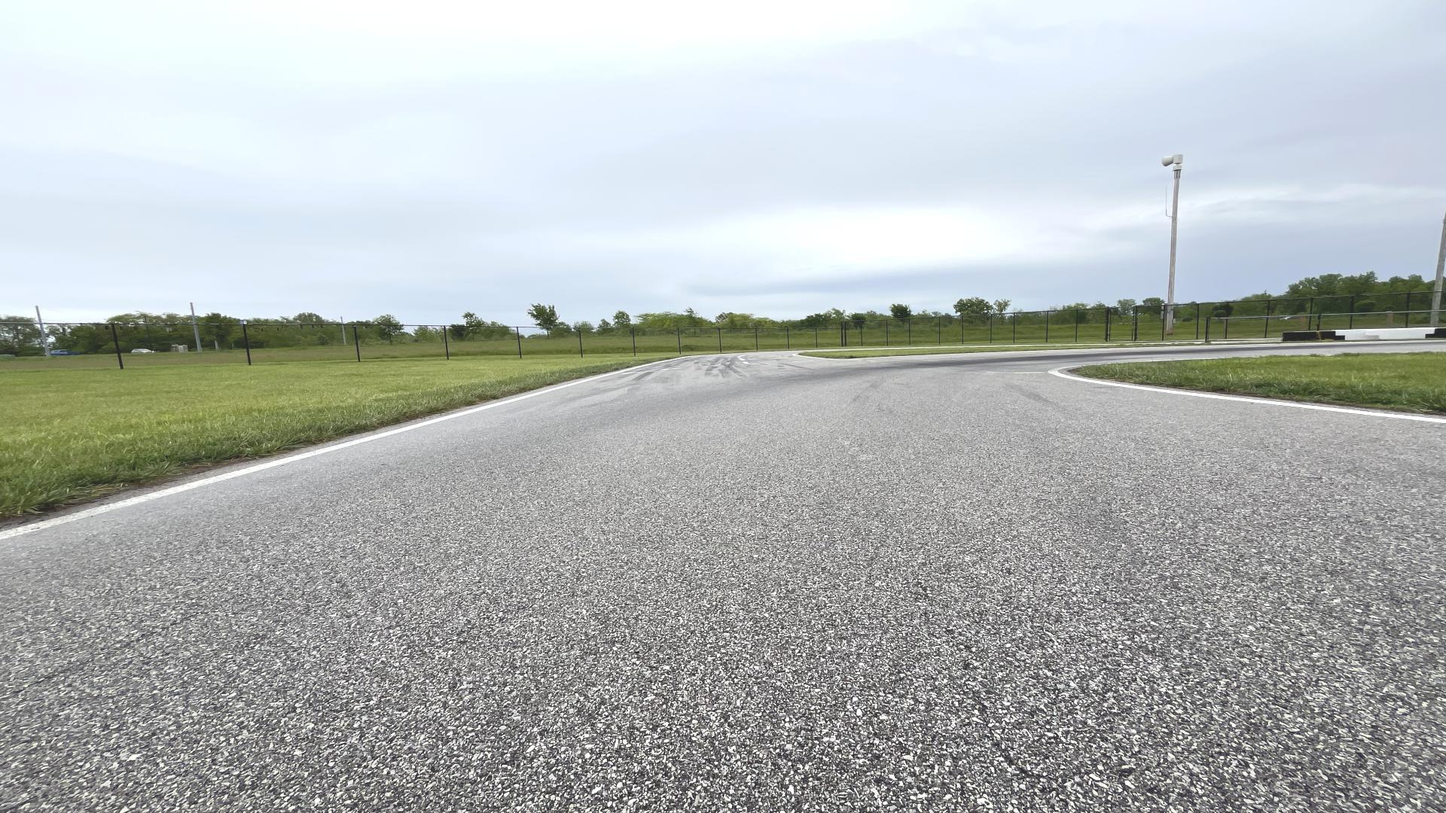white-line: (0, 355, 711, 541), (1048, 364, 1445, 425), (791, 348, 1158, 360), (622, 372, 642, 375), (742, 361, 758, 364), (660, 368, 679, 370), (737, 355, 744, 360)
